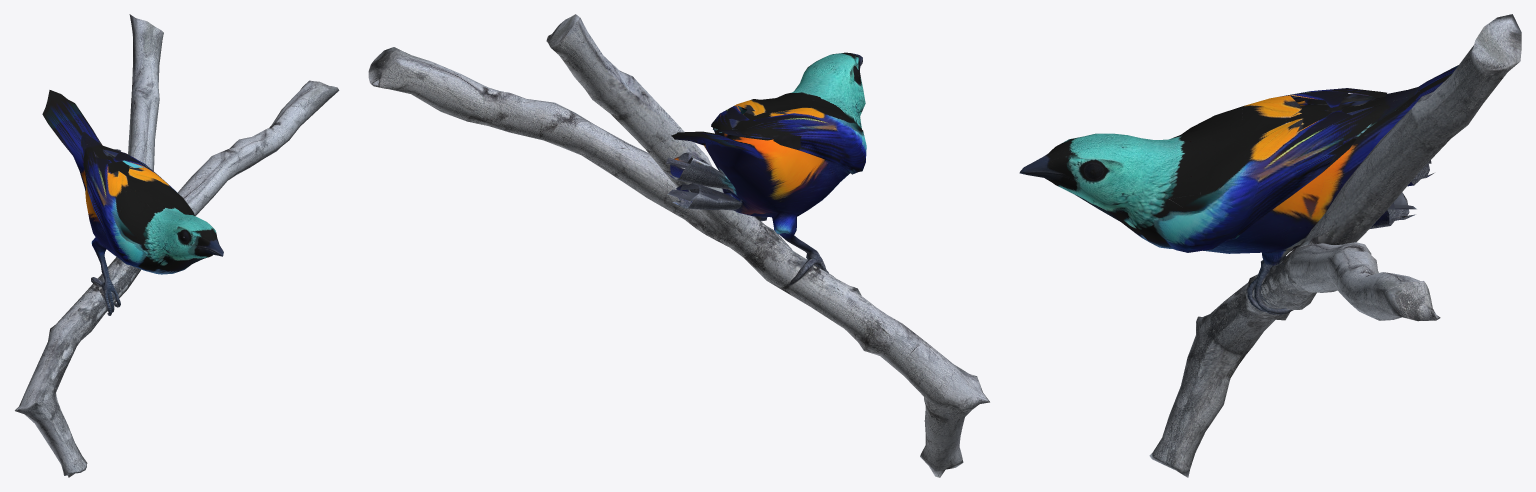
The model's file is Saira_pintor_novo.glb.
3 renders of one model, left to right at view 1: azimuth 30°, elevation 25°; view 2: azimuth 150°, elevation 25°; view 3: azimuth 270°, elevation 25°, orthographic. The views are drawn at different scales.
Bounding box in the file's own units: 0.9575 × 0.854 × 0.6562.
1 material, 1 textured.
